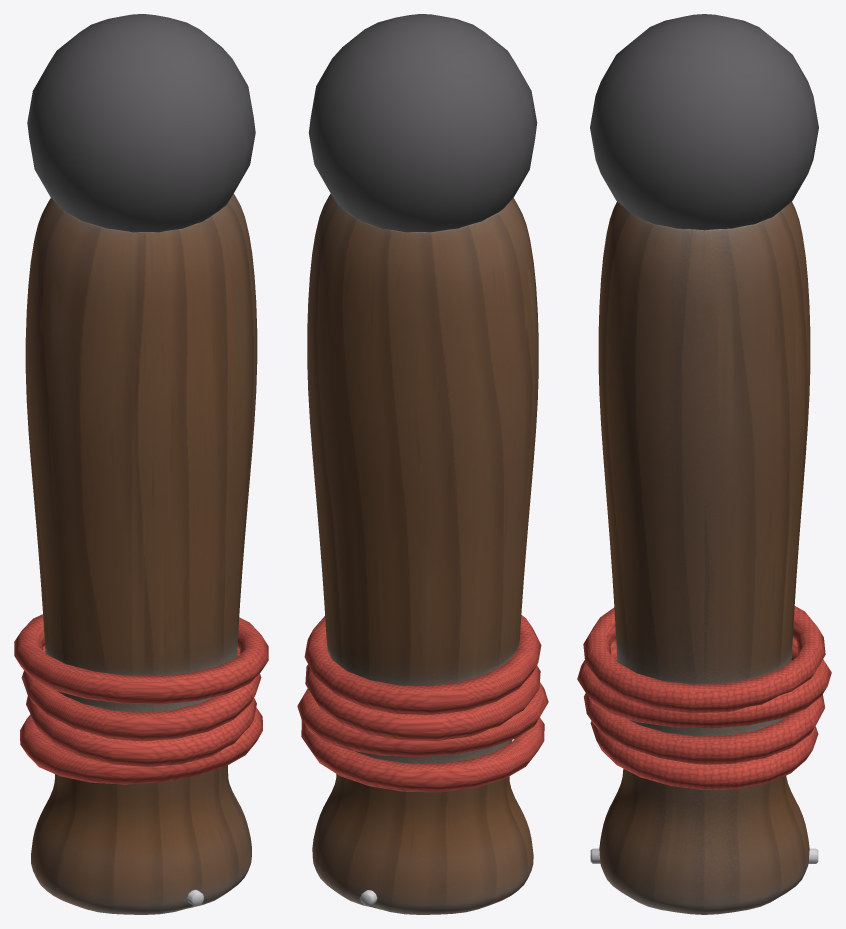
File: LowerLeg_R.glb
The picture shows the model from 3 angles, left to right: view 1: azimuth 30°, elevation 25°; view 2: azimuth 150°, elevation 25°; view 3: azimuth 270°, elevation 25°; orthographic projection.
Parts seen in each view (by area): view 1: LowerLeg_R, LowerLeg_R_Ball, LowerLeg_R_Wrap; view 2: LowerLeg_R, LowerLeg_R_Ball, LowerLeg_R_Wrap; view 3: LowerLeg_R, LowerLeg_R_Ball, LowerLeg_R_Wrap.
Boxes of the visible parts, x1,y1,x2,y2 form: LowerLeg_R: (25,194,257,914); LowerLeg_R_Ball: (27,14,255,232); LowerLeg_R_Wrap: (14,614,268,784); LowerLeg_R: (307,193,538,914); LowerLeg_R_Ball: (308,14,537,232); LowerLeg_R_Wrap: (297,615,548,792); LowerLeg_R: (598,201,810,914); LowerLeg_R_Ball: (590,14,818,230); LowerLeg_R_Wrap: (577,606,831,789).
Size of the model in its own units: 0.1248 by 0.4673 by 0.1267.
Materials: 4 (2 with a texture image).
